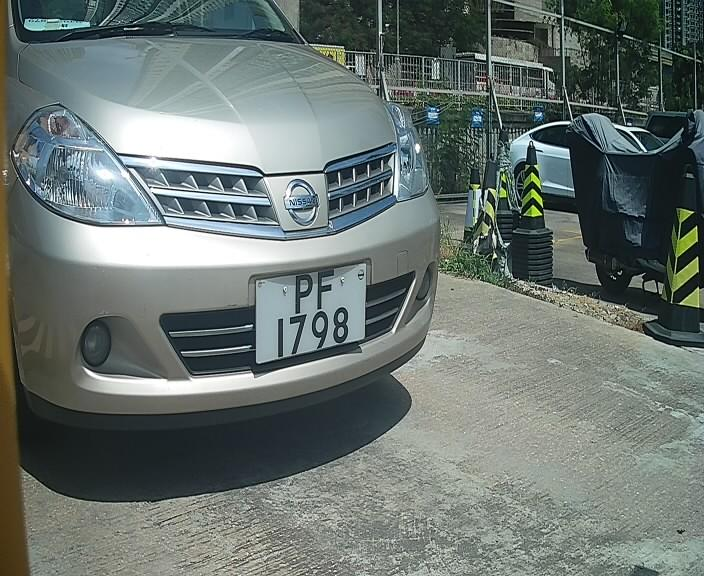License Plate: (249, 260, 375, 371)
